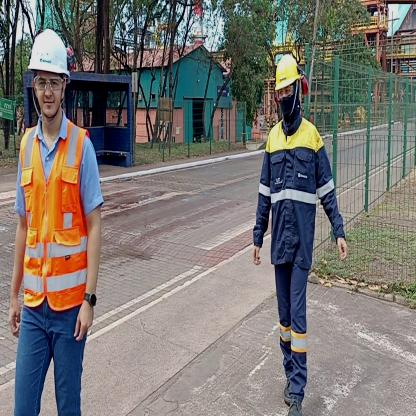Balaclava: (276, 80, 301, 122)
C_eletrica: (258, 122, 340, 263)
Capacete: (29, 26, 71, 76), (272, 52, 304, 86)
colete: (18, 129, 91, 310)
